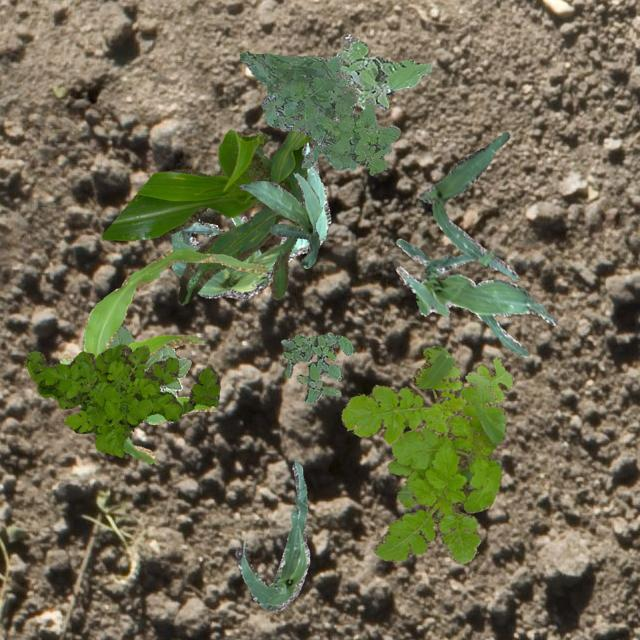crop: (58, 248, 266, 462), (100, 128, 310, 304), (170, 140, 330, 298), (394, 238, 556, 356), (418, 130, 518, 280), (234, 458, 308, 610), (238, 172, 320, 268), (106, 322, 190, 397)
weed: (341, 344, 514, 518), (372, 372, 504, 562), (25, 344, 218, 456), (238, 50, 400, 174), (334, 34, 430, 108), (280, 332, 354, 402)
